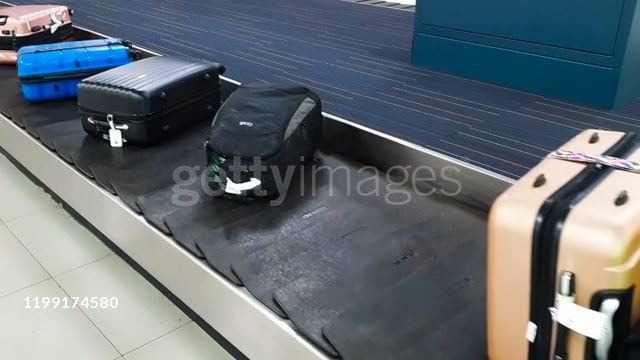baggage: (479, 121, 640, 360), (198, 84, 324, 209), (72, 53, 224, 151), (13, 41, 142, 108), (2, 4, 80, 64)
